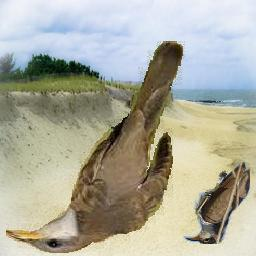Cuckoo: (7, 41, 186, 253), (170, 162, 251, 244)
